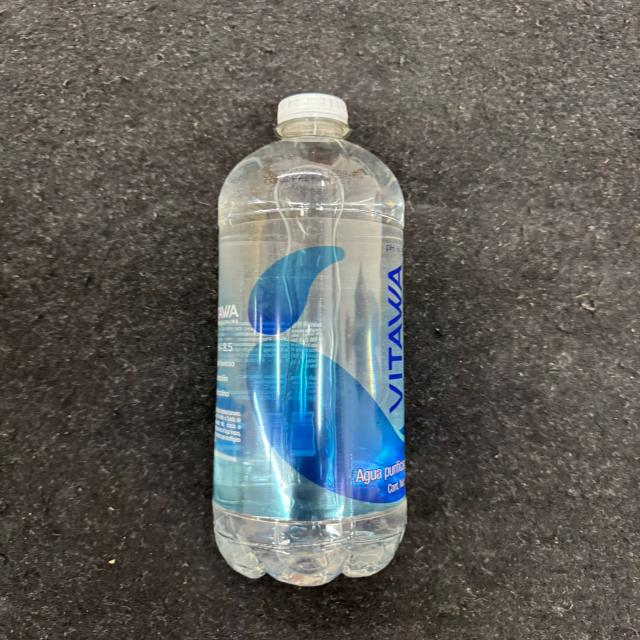AGUA ALCALINA VITAWA 1LT: (220, 90, 408, 585)
